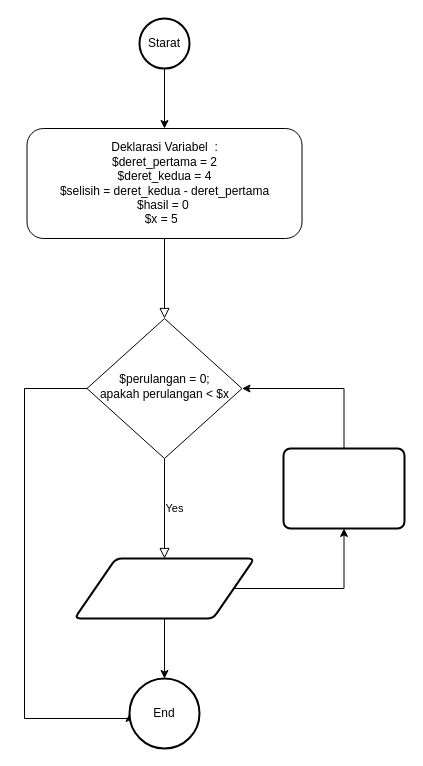
This 423x766 diagram has some shape labels left out. The box of each missing label's shape, as (x1, y1, x2, y2) in pixels:
perilangan ++: (282, 447, 405, 529)
Print $hasil =+ selisih: (73, 557, 255, 619)
